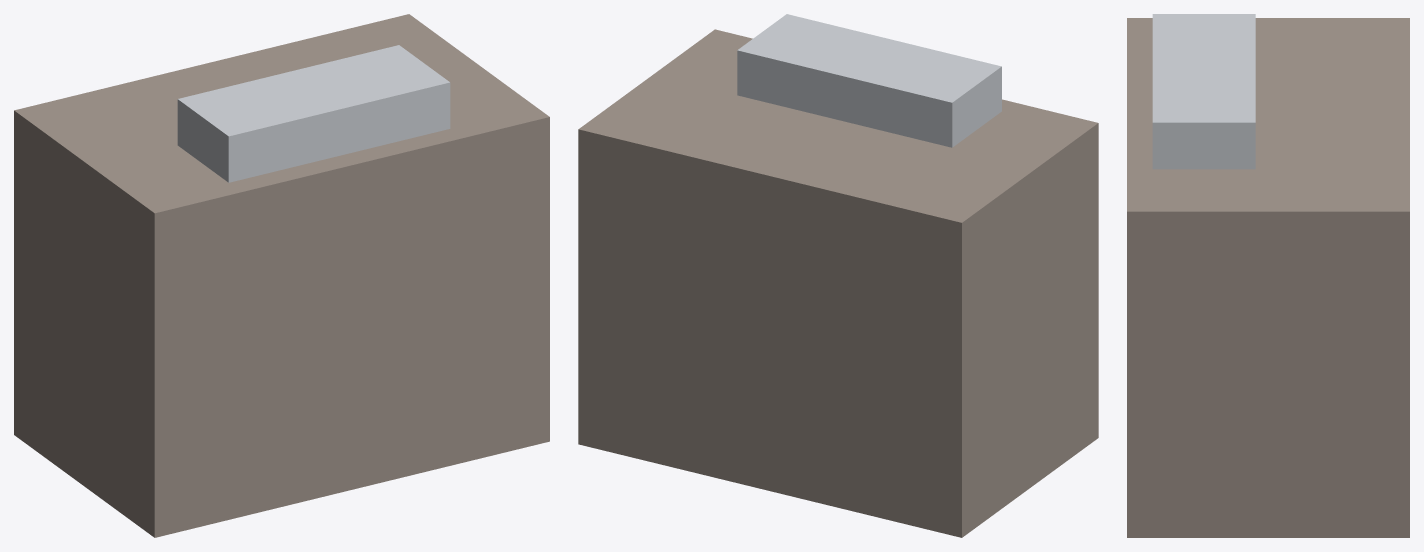
Rendered from prop.glb.
3 renders of one model, left to right at view 1: azimuth 30°, elevation 25°; view 2: azimuth 150°, elevation 25°; view 3: azimuth 270°, elevation 25°, orthographic. The views are drawn at different scales.
Parts seen in each view (by area): view 1: Cloth, Metal; view 2: Cloth, Metal; view 3: Cloth, Metal.
Boxes of the visible parts, left/top/right/bottom form: Cloth: left=14, top=14, right=549, bottom=537; Metal: left=177, top=45, right=450, bottom=182; Cloth: left=578, top=29, right=1098, bottom=537; Metal: left=737, top=14, right=1001, bottom=147; Cloth: left=1127, top=18, right=1409, bottom=537; Metal: left=1152, top=14, right=1255, bottom=169.
Size of the model in its own units: 0.3567 by 0.32 by 0.22.
